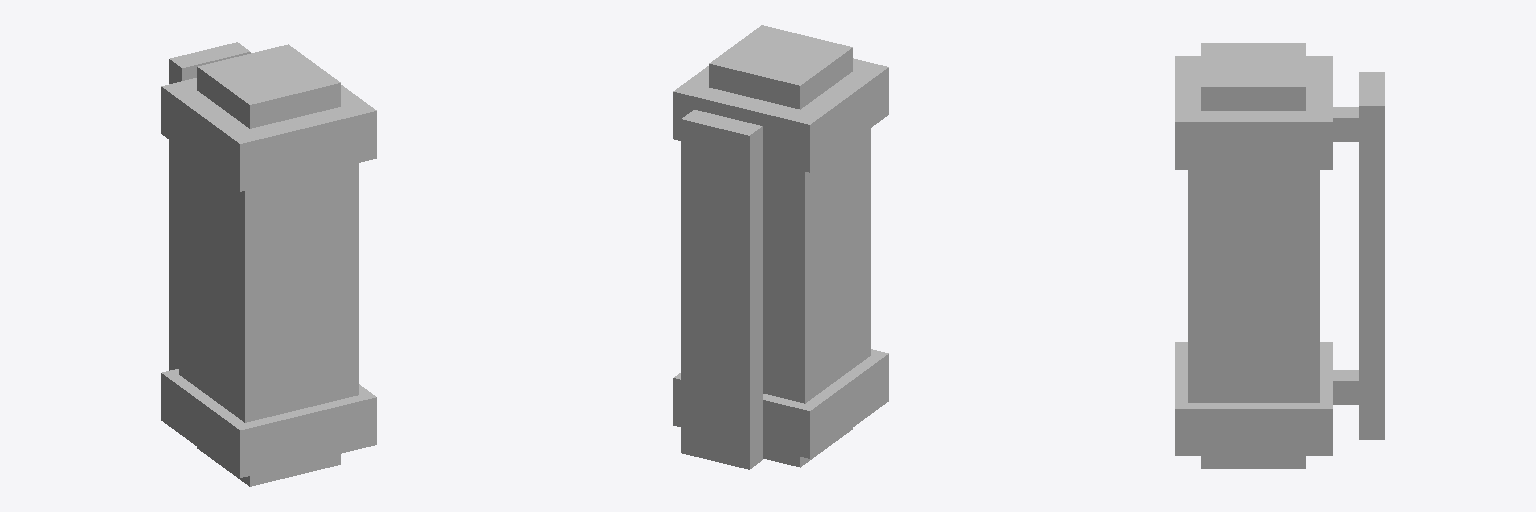
File: 733_barberpole.obj
3 renders of one model, left to right at view 1: azimuth 30°, elevation 25°; view 2: azimuth 150°, elevation 25°; view 3: azimuth 270°, elevation 25°, orthographic.
Parts seen in each view (by area): view 1: glass, top1, base2, top2, wall1, wall2, base1; view 2: glass, wall1, wall2, top1, top2, base2, base1; view 3: glass, top1, base2, top2, wall1, wall2, base1, wall3, wall4.
Boxes of the visible parts, box(x1,y1,x2,y2) form: glass: box(179, 147, 358, 422); top1: box(161, 78, 376, 191); base2: box(161, 369, 376, 477); top2: box(197, 44, 340, 128); wall1: box(169, 42, 250, 232); wall2: box(169, 226, 178, 370); base1: box(197, 447, 340, 486); glass: box(763, 128, 870, 403); wall1: box(681, 110, 762, 302); wall2: box(681, 286, 762, 469); top1: box(673, 58, 888, 172); top2: box(709, 25, 852, 109); base2: box(673, 349, 888, 458); base1: box(763, 428, 852, 467); glass: box(1188, 170, 1319, 402); top1: box(1175, 56, 1332, 169); base2: box(1175, 342, 1332, 455); top2: box(1201, 43, 1305, 110); wall1: box(1359, 72, 1384, 272); wall2: box(1359, 273, 1384, 439); base1: box(1201, 456, 1305, 468); wall3: box(1333, 370, 1358, 404); wall4: box(1333, 107, 1358, 141).
Bounding box in the file's own units: 0.375 × 1 × 0.5001.